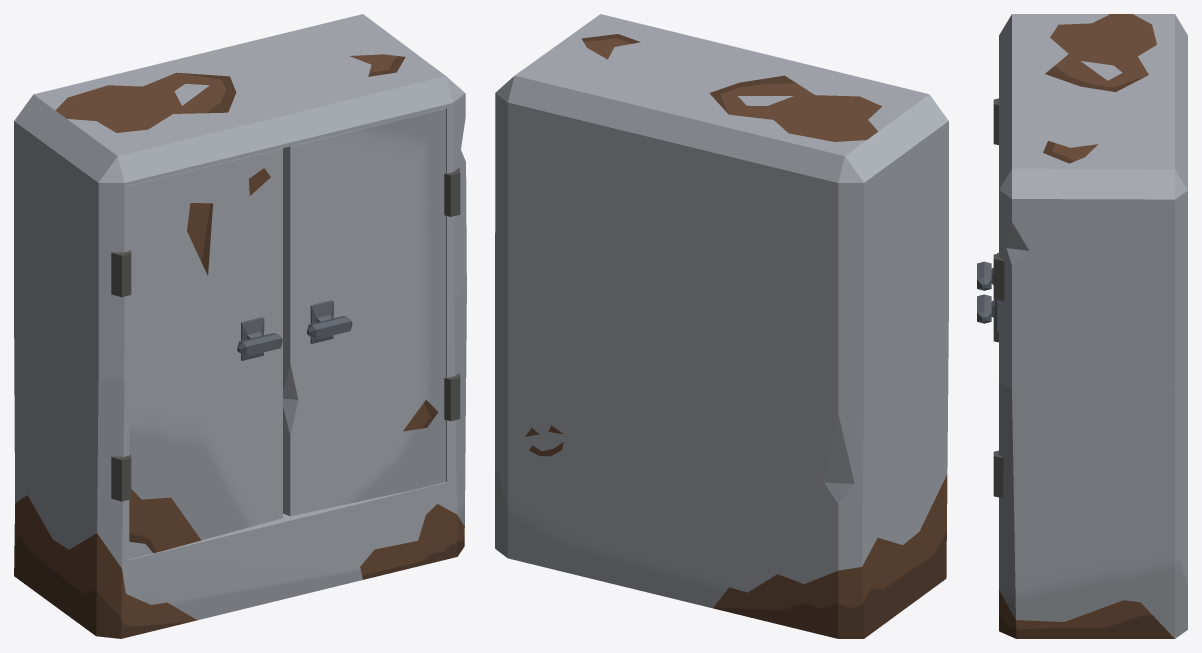
The model's file is SM_Prop_Cupboard_01.fbx.
3 renders of one model, left to right at view 1: azimuth 30°, elevation 25°; view 2: azimuth 150°, elevation 25°; view 3: azimuth 270°, elevation 25°, orthographic. The views are drawn at different scales.
Parts seen in each view (by area): view 1: SM_Prop_Cupboard_01; view 2: SM_Prop_Cupboard_01; view 3: SM_Prop_Cupboard_01.
Part boxes in pixels (<box>): SM_Prop_Cupboard_01: <box>14,14,466,638</box>; SM_Prop_Cupboard_01: <box>495,14,948,638</box>; SM_Prop_Cupboard_01: <box>977,14,1187,638</box>.
Bounding box in the file's own units: 115 × 142 × 58.78.
Materials: 1 (1 with a texture image).
